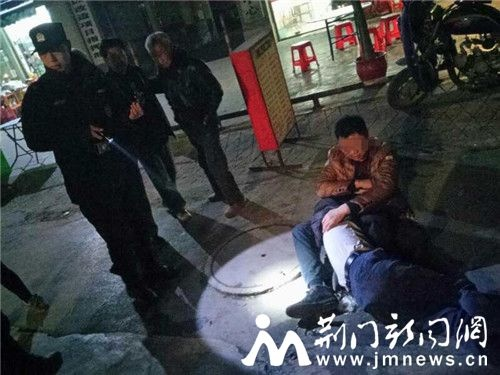falling: (277, 112, 421, 334)
